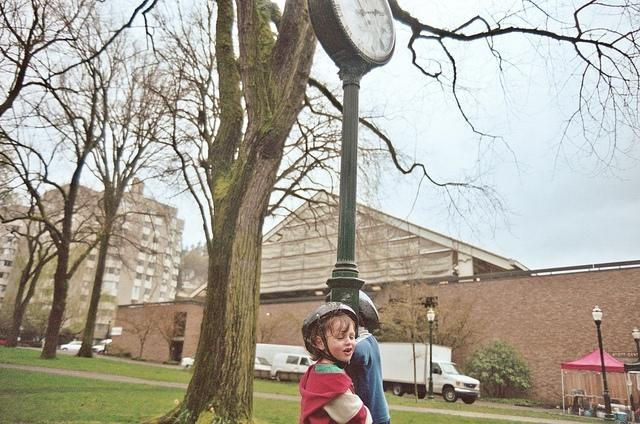car: (254, 356, 272, 378), (91, 338, 112, 354), (60, 340, 83, 352), (180, 354, 197, 370)
truck: (373, 338, 481, 406), (271, 353, 318, 381)
